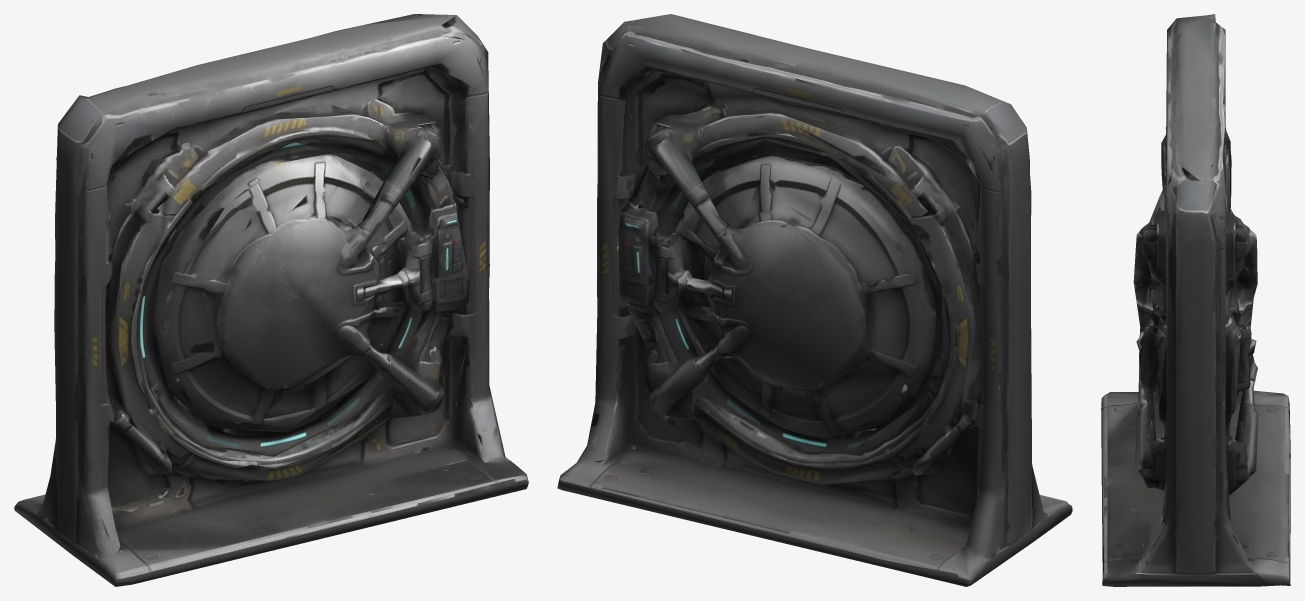
File: porte_circulaire.glb
3 renders of one model, left to right at view 1: azimuth 30°, elevation 25°; view 2: azimuth 150°, elevation 25°; view 3: azimuth 270°, elevation 25°, orthographic. The views are drawn at different scales.
Visible parts, largest first — view 1: tripo_node_31053c54-c071-47c2-addd-d0c255547c25; view 2: tripo_node_31053c54-c071-47c2-addd-d0c255547c25; view 3: tripo_node_31053c54-c071-47c2-addd-d0c255547c25.
Boxes of the visible parts, x1=… form: tripo_node_31053c54-c071-47c2-addd-d0c255547c25: x1=14, y1=14, x2=528, y2=586; tripo_node_31053c54-c071-47c2-addd-d0c255547c25: x1=557, y1=14, x2=1072, y2=586; tripo_node_31053c54-c071-47c2-addd-d0c255547c25: x1=1101, y1=14, x2=1290, y2=586.
Bounding box in the file's own units: 0.9805 × 0.9994 × 0.4244.
Materials: 1 (1 with a texture image).
